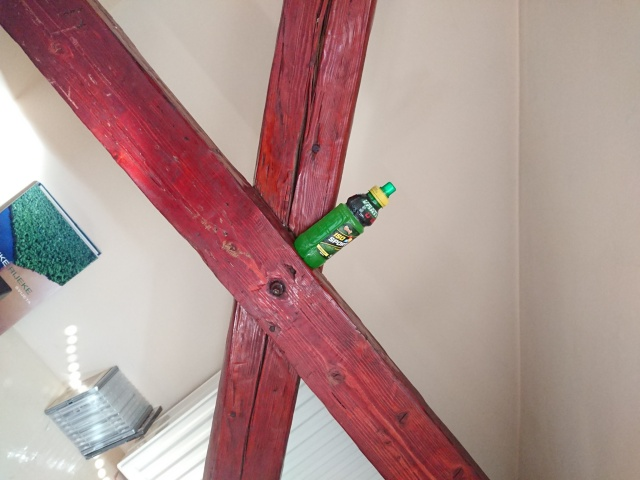Vindi Iso Sport Lemon-Grapefruit 500mL: (291, 180, 398, 270)
